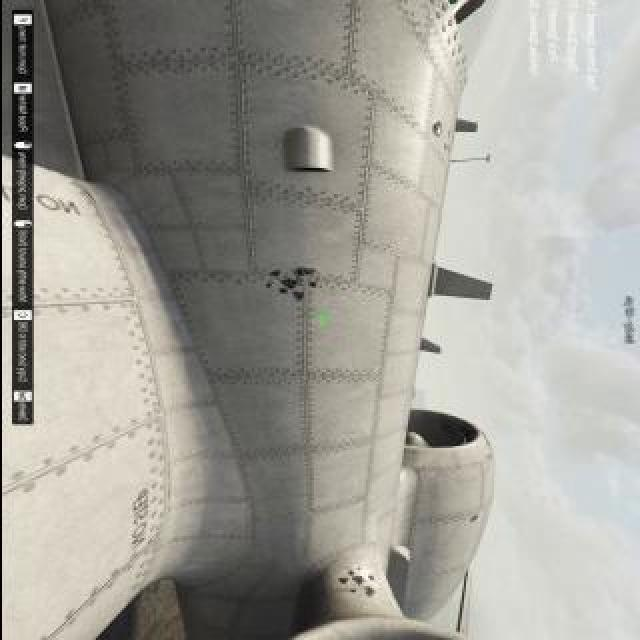crack: (431, 121, 443, 141), (290, 269, 314, 277), (280, 278, 296, 290), (289, 291, 305, 303), (268, 269, 280, 279), (351, 575, 361, 587), (468, 513, 478, 523), (364, 590, 376, 598), (337, 578, 349, 586), (346, 587, 356, 595), (367, 573, 375, 581)
